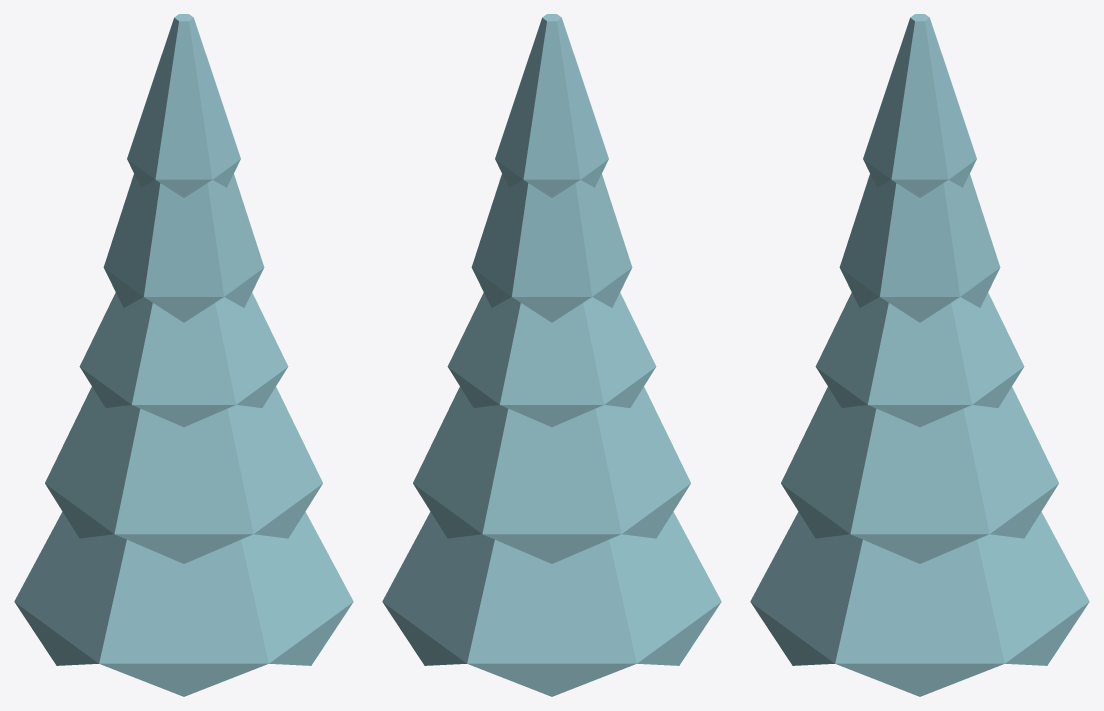
The model's file is tree_pineSmall_round3.glb.
The picture shows the model from 3 angles, left to right: view 1: azimuth 30°, elevation 25°; view 2: azimuth 150°, elevation 25°; view 3: azimuth 270°, elevation 25°; orthographic projection.
Parts seen in each view (by area): view 1: tree_pineSmall_round3; view 2: tree_pineSmall_round3; view 3: tree_pineSmall_round3.
Part boxes in pixels (x1,y1,x2,y2): tree_pineSmall_round3: (14,14,353,696); tree_pineSmall_round3: (382,14,721,696); tree_pineSmall_round3: (750,14,1089,696).
Bounding box in the file's own units: 0.4804 × 1.11 × 0.5547.
